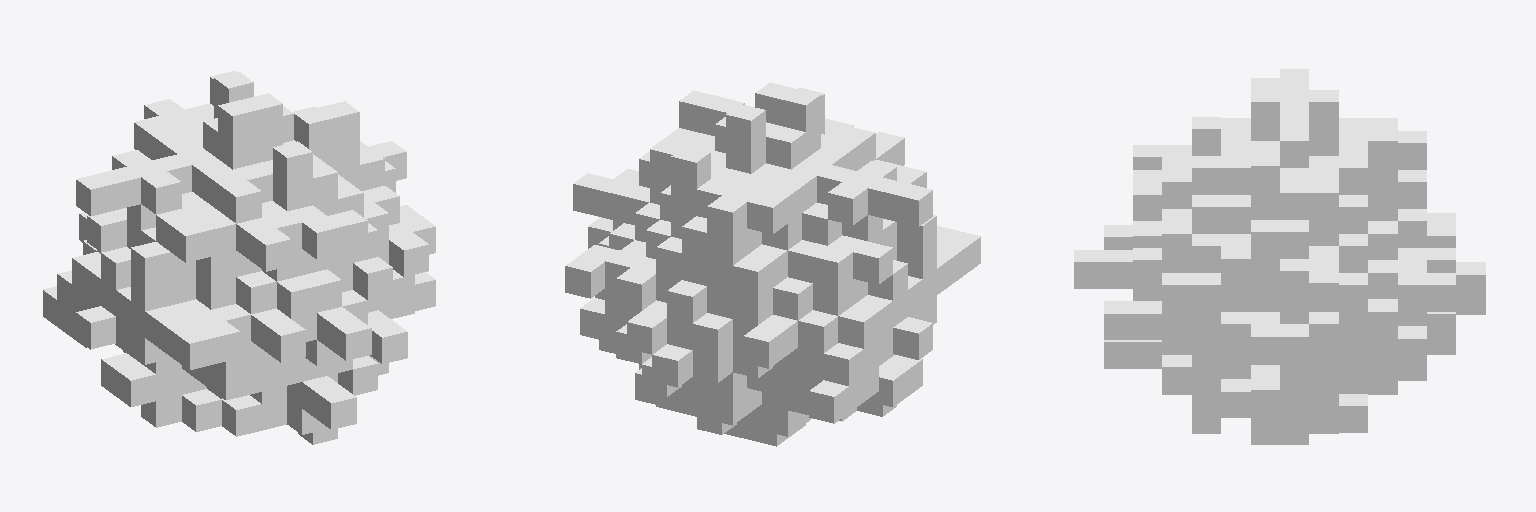
Rendered from ammo_02.obj.
3 renders of one model, left to right at view 1: azimuth 30°, elevation 25°; view 2: azimuth 150°, elevation 25°; view 3: azimuth 270°, elevation 25°, orthographic.
Bounding box in the file's own units: 13 × 12 × 14.